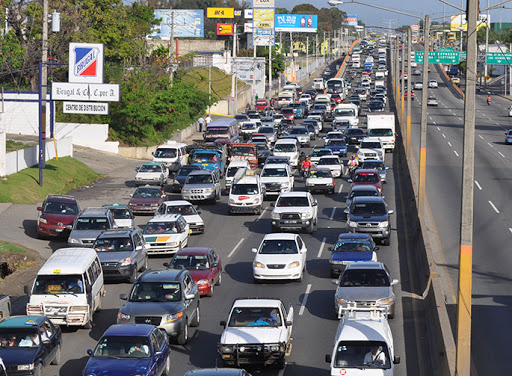Automovil: (246, 229, 305, 290), (331, 262, 392, 318), (165, 245, 225, 298), (36, 193, 73, 245)
Camioneta: (217, 293, 300, 372), (35, 249, 105, 341), (131, 271, 208, 338), (326, 309, 396, 375), (99, 226, 144, 281), (274, 184, 320, 231), (346, 196, 391, 241), (226, 155, 260, 212), (153, 138, 194, 176), (184, 171, 226, 207), (258, 163, 288, 202), (207, 115, 238, 148), (371, 114, 401, 148), (355, 133, 386, 164), (273, 136, 304, 163), (368, 96, 385, 114)
Carro: (6, 309, 55, 376), (158, 198, 225, 246), (129, 160, 173, 188), (132, 184, 162, 219), (325, 136, 348, 158)
